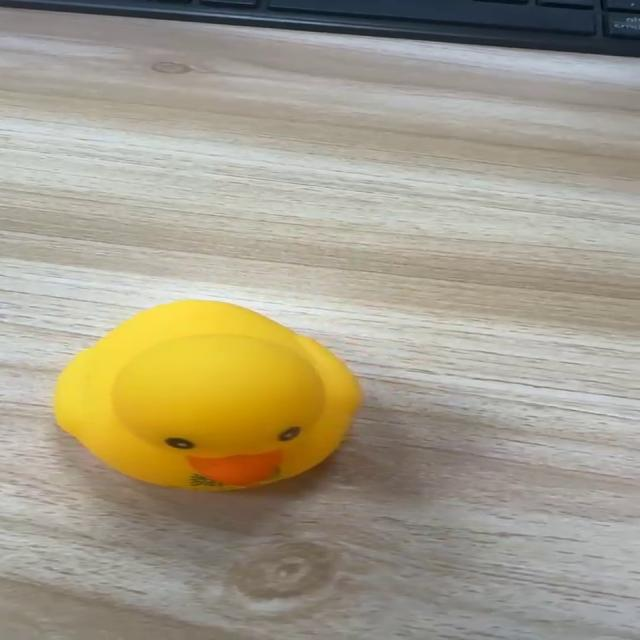yellow_duck: (51, 297, 364, 493)
